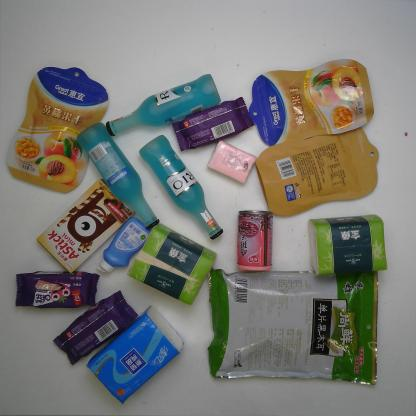Alcohol: (73, 122, 160, 232), (138, 134, 225, 241), (104, 71, 222, 138)
Canned Food: (234, 209, 274, 276)
Dessert: (36, 179, 134, 275), (53, 289, 138, 366), (170, 96, 257, 150), (13, 268, 98, 310)
Dried Food: (202, 262, 385, 390)
Dried Fruit: (6, 63, 111, 194), (248, 58, 374, 148), (256, 127, 380, 216)
Personal Hygiene: (92, 218, 150, 275)
Tissue: (86, 305, 184, 406), (127, 224, 221, 306), (308, 214, 390, 277), (207, 140, 258, 184)
